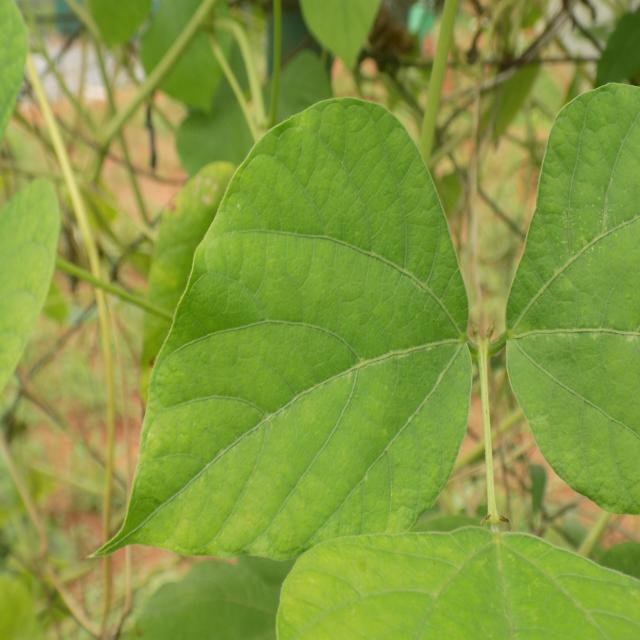Dolicos bean_healthy: (80, 95, 470, 569)
